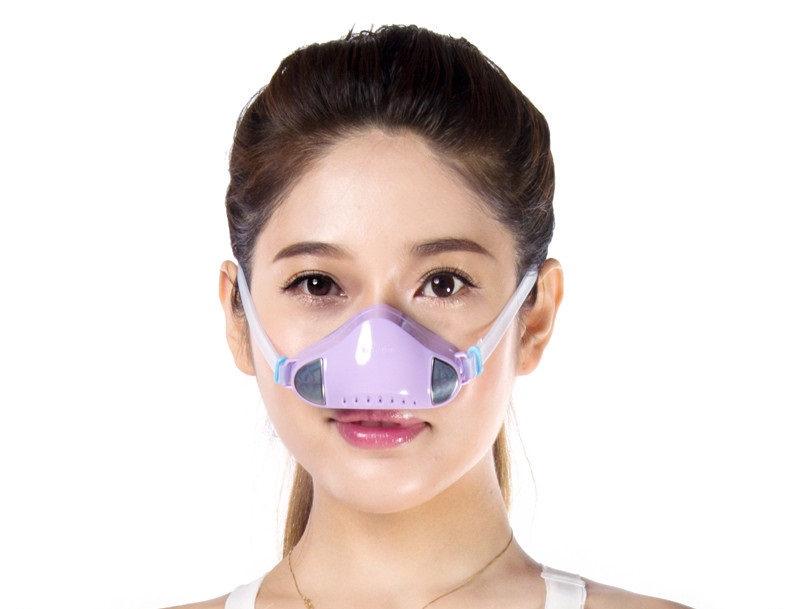face_mask: (244, 142, 528, 506)
